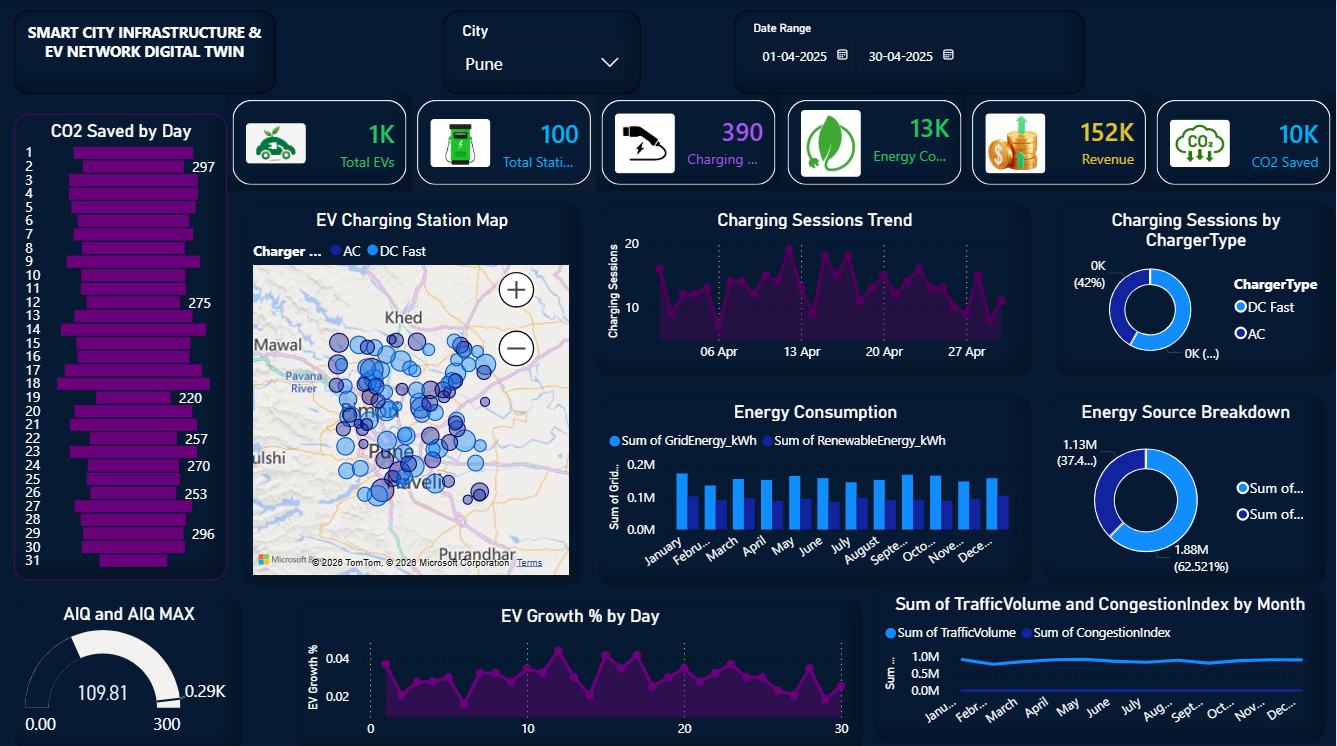

What the dashboard file says about the page in this screenshot:
{"tool":"powerbi","page":{"name":"Page 1","canvas":[1280,720],"ordinal":0},"visuals":[{"type":"textbox","box":[16.7,10,250,80],"z":0},{"type":"slicer","fields":{"Values":["Dim_Station.City"]},"box":[426.7,10,188.3,80],"z":1000},{"type":"slicer","title":"Date Range","fields":{"Values":["DateTable.Date"]},"box":[705,10,335,80],"z":2000},{"type":"cardVisual","fields":{"Data":["Dim_EV.Total EVs"]},"box":[220,90,176.7,91.7],"z":3000},{"type":"cardVisual","fields":{"Data":["Dim_Station.Total Stations"]},"box":[396.7,90,176.7,91.7],"z":4000},{"type":"cardVisual","fields":{"Data":["Fact_ChargingSessions.Charging Sessions"]},"box":[573.3,90,176.7,91.7],"z":5000},{"type":"cardVisual","fields":{"Data":["Fact_ChargingSessions.Energy Consumed"]},"box":[750,90,176.7,91.7],"z":6000},{"type":"cardVisual","fields":{"Data":["Fact_ChargingSessions.Revenue"]},"box":[926.7,90,176.7,91.7],"z":7000},{"type":"cardVisual","fields":{"Data":["Fact_AQI.CO2 Saved"]},"box":[1103.3,90,176.7,91.7],"z":8000},{"type":"map","title":"EV Charging Station Map","fields":{"Y":["Dim_Station.Latitude"],"X":["Dim_Station.Longitude"],"Size":["Fact_ChargingSessions.Charging Sessions"],"Series":["Dim_Station.ChargerType"]},"box":[235,193.3,323.3,366.7],"z":9000},{"type":"lineChart","title":"Charging Sessions Trend","fields":{"Y":["Fact_ChargingSessions.Charging Sessions"],"Category":["Fact_ChargingSessions.Date.Variation.Date Hierarchy.Month"]},"box":[573.3,193.3,416.7,166.7],"z":10000},{"type":"donutChart","fields":{"Category":["Dim_Station.ChargerType"],"Y":["Fact_ChargingSessions.Charging Sessions"]},"box":[1011.7,193.3,268.3,166.7],"z":11000},{"type":"clusteredColumnChart","title":"Energy Consumption","fields":{"Category":["Fact_Energy.Date.Variation.Date Hierarchy.Month","Fact_Energy.Date.Variation.Date Hierarchy.Day"],"Y":["Sum(Fact_Energy.GridEnergy_kWh)","Sum(Fact_Energy.RenewableEnergy_kWh)"]},"box":[575,376.7,415,183.3],"z":12000},{"type":"donutChart","title":"Energy Source Breakdown","fields":{"Y":["Sum(Fact_Energy.GridEnergy_kWh)","Sum(Fact_Energy.RenewableEnergy_kWh)"]},"box":[1001.7,376.7,268.3,183.3],"z":13000},{"type":"lineChart","title":"Sum of TrafficVolume and  CongestionIndex by Month","fields":{"Y":["Sum(Fact_Traffic.TrafficVolume)","Sum(Fact_Traffic.CongestionIndex)"],"Category":["Fact_Traffic.Date.Variation.Date Hierarchy.Month","Fact_Traffic.Date.Variation.Date Hierarchy.Day"]},"box":[838.3,560,431.7,150],"z":14000},{"type":"gauge","fields":{"Y":["Fact_AQI.AQI Avg"],"MaxValue":["Fact_AQI.AIQ MAX"]},"box":[16.7,570,218.3,150],"z":15000},{"type":"funnel","fields":{"Y":["Fact_AQI.CO2 Saved"],"Category":["Fact_AQI.Date.Variation.Date Hierarchy.Quarter","Fact_AQI.Date.Variation.Date Hierarchy.Month","Fact_AQI.Date.Variation.Date Hierarchy.Day"]},"box":[16.7,108.3,203.3,445],"z":16000},{"type":"lineChart","fields":{"Y":["Fact_ChargingSessions.EV Growth %"],"Category":["DateTable.Date.Variation.Date Hierarchy.Month","DateTable.Date.Variation.Date Hierarchy.Day"]},"box":[286.7,571.7,541.7,148.3],"z":17000}]}

Visuals, with their boxes in screenshot pixels (x1, y1, x2, y2), scaled from the page's 1280x720 canvas onto the 1337x746 screenshot:
textbox: 17:10:279:93
slicer - Dim_Station.City: 446:10:642:93
"Date Range" slicer: 736:10:1086:93
cardVisual - Dim_EV.Total EVs: 230:93:414:188
cardVisual - Dim_Station.Total Stations: 414:93:599:188
cardVisual - Fact_ChargingSessions.Charging Sessions: 599:93:783:188
cardVisual - Fact_ChargingSessions.Energy Consumed: 783:93:968:188
cardVisual - Fact_ChargingSessions.Revenue: 968:93:1153:188
cardVisual - Fact_AQI.CO2 Saved: 1152:93:1336:188
"EV Charging Station Map" map: 245:200:583:580
"Charging Sessions Trend" lineChart: 599:200:1034:373
donutChart - Dim_Station.ChargerType x Fact_ChargingSessions.Charging Sessions: 1057:200:1336:373
"Energy Consumption" clusteredColumnChart: 601:390:1034:580
"Energy Source Breakdown" donutChart: 1046:390:1327:580
"Sum of TrafficVolume and  CongestionIndex by Month" lineChart: 876:580:1327:736
gauge - Fact_AQI.AQI Avg x Fact_AQI.AIQ MAX: 17:591:245:745
funnel - Fact_AQI.CO2 Saved x Fact_AQI.Date.Variation.Date Hierarchy.Quarter: 17:112:230:573
lineChart - Fact_ChargingSessions.EV Growth % x DateTable.Date.Variation.Date Hierarchy.Month: 299:592:865:745
